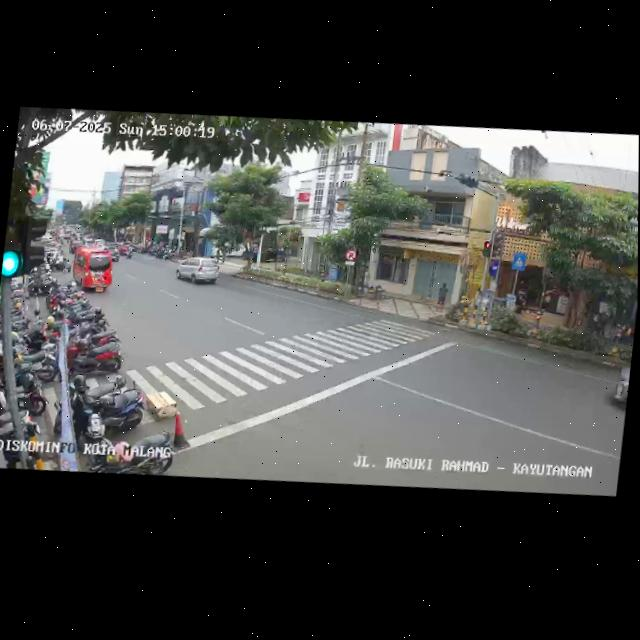car: (69, 244, 116, 297), (173, 251, 221, 291)
person: (434, 279, 448, 313)
